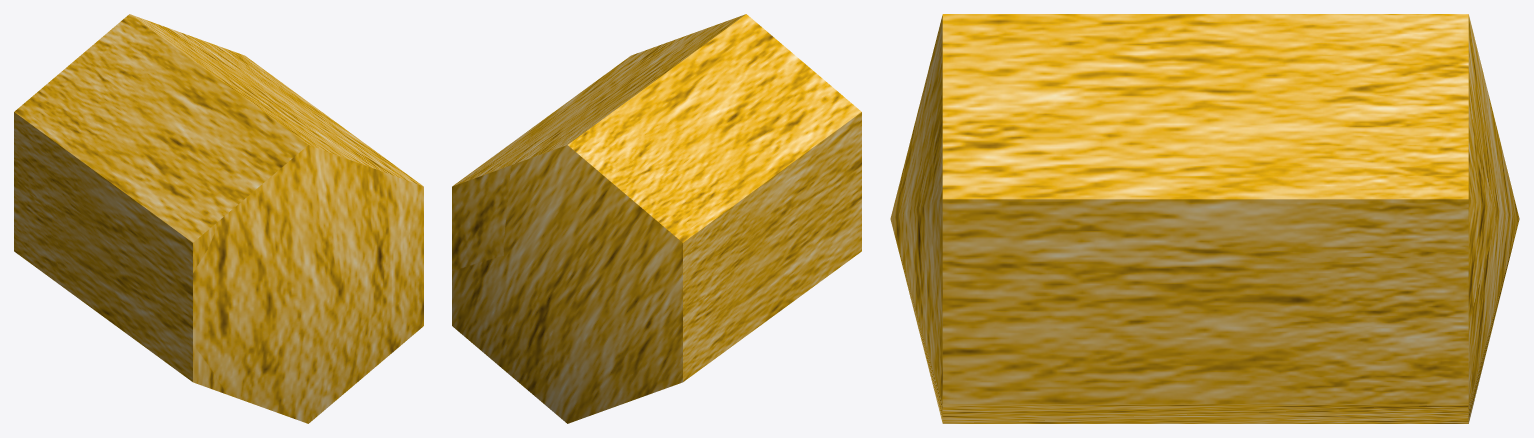
The model's file is cellClosed.fbx.
3 renders of one model, left to right at view 1: azimuth 30°, elevation 25°; view 2: azimuth 150°, elevation 25°; view 3: azimuth 270°, elevation 25°, orthographic. The views are drawn at different scales.
Visible parts, largest first — view 1: Cylinder; view 2: Cylinder; view 3: Cylinder.
Part boxes in pixels (<box>): Cylinder: <box>14,14,423,423</box>; Cylinder: <box>452,14,861,423</box>; Cylinder: <box>890,14,1519,423</box>.
Size of the model in its own units: 189 by 219 by 304.
